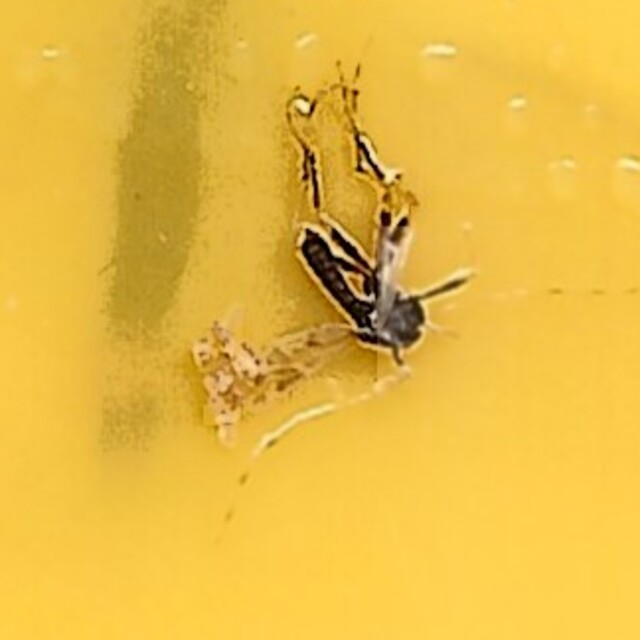Nematocera: (198, 226, 442, 414)
